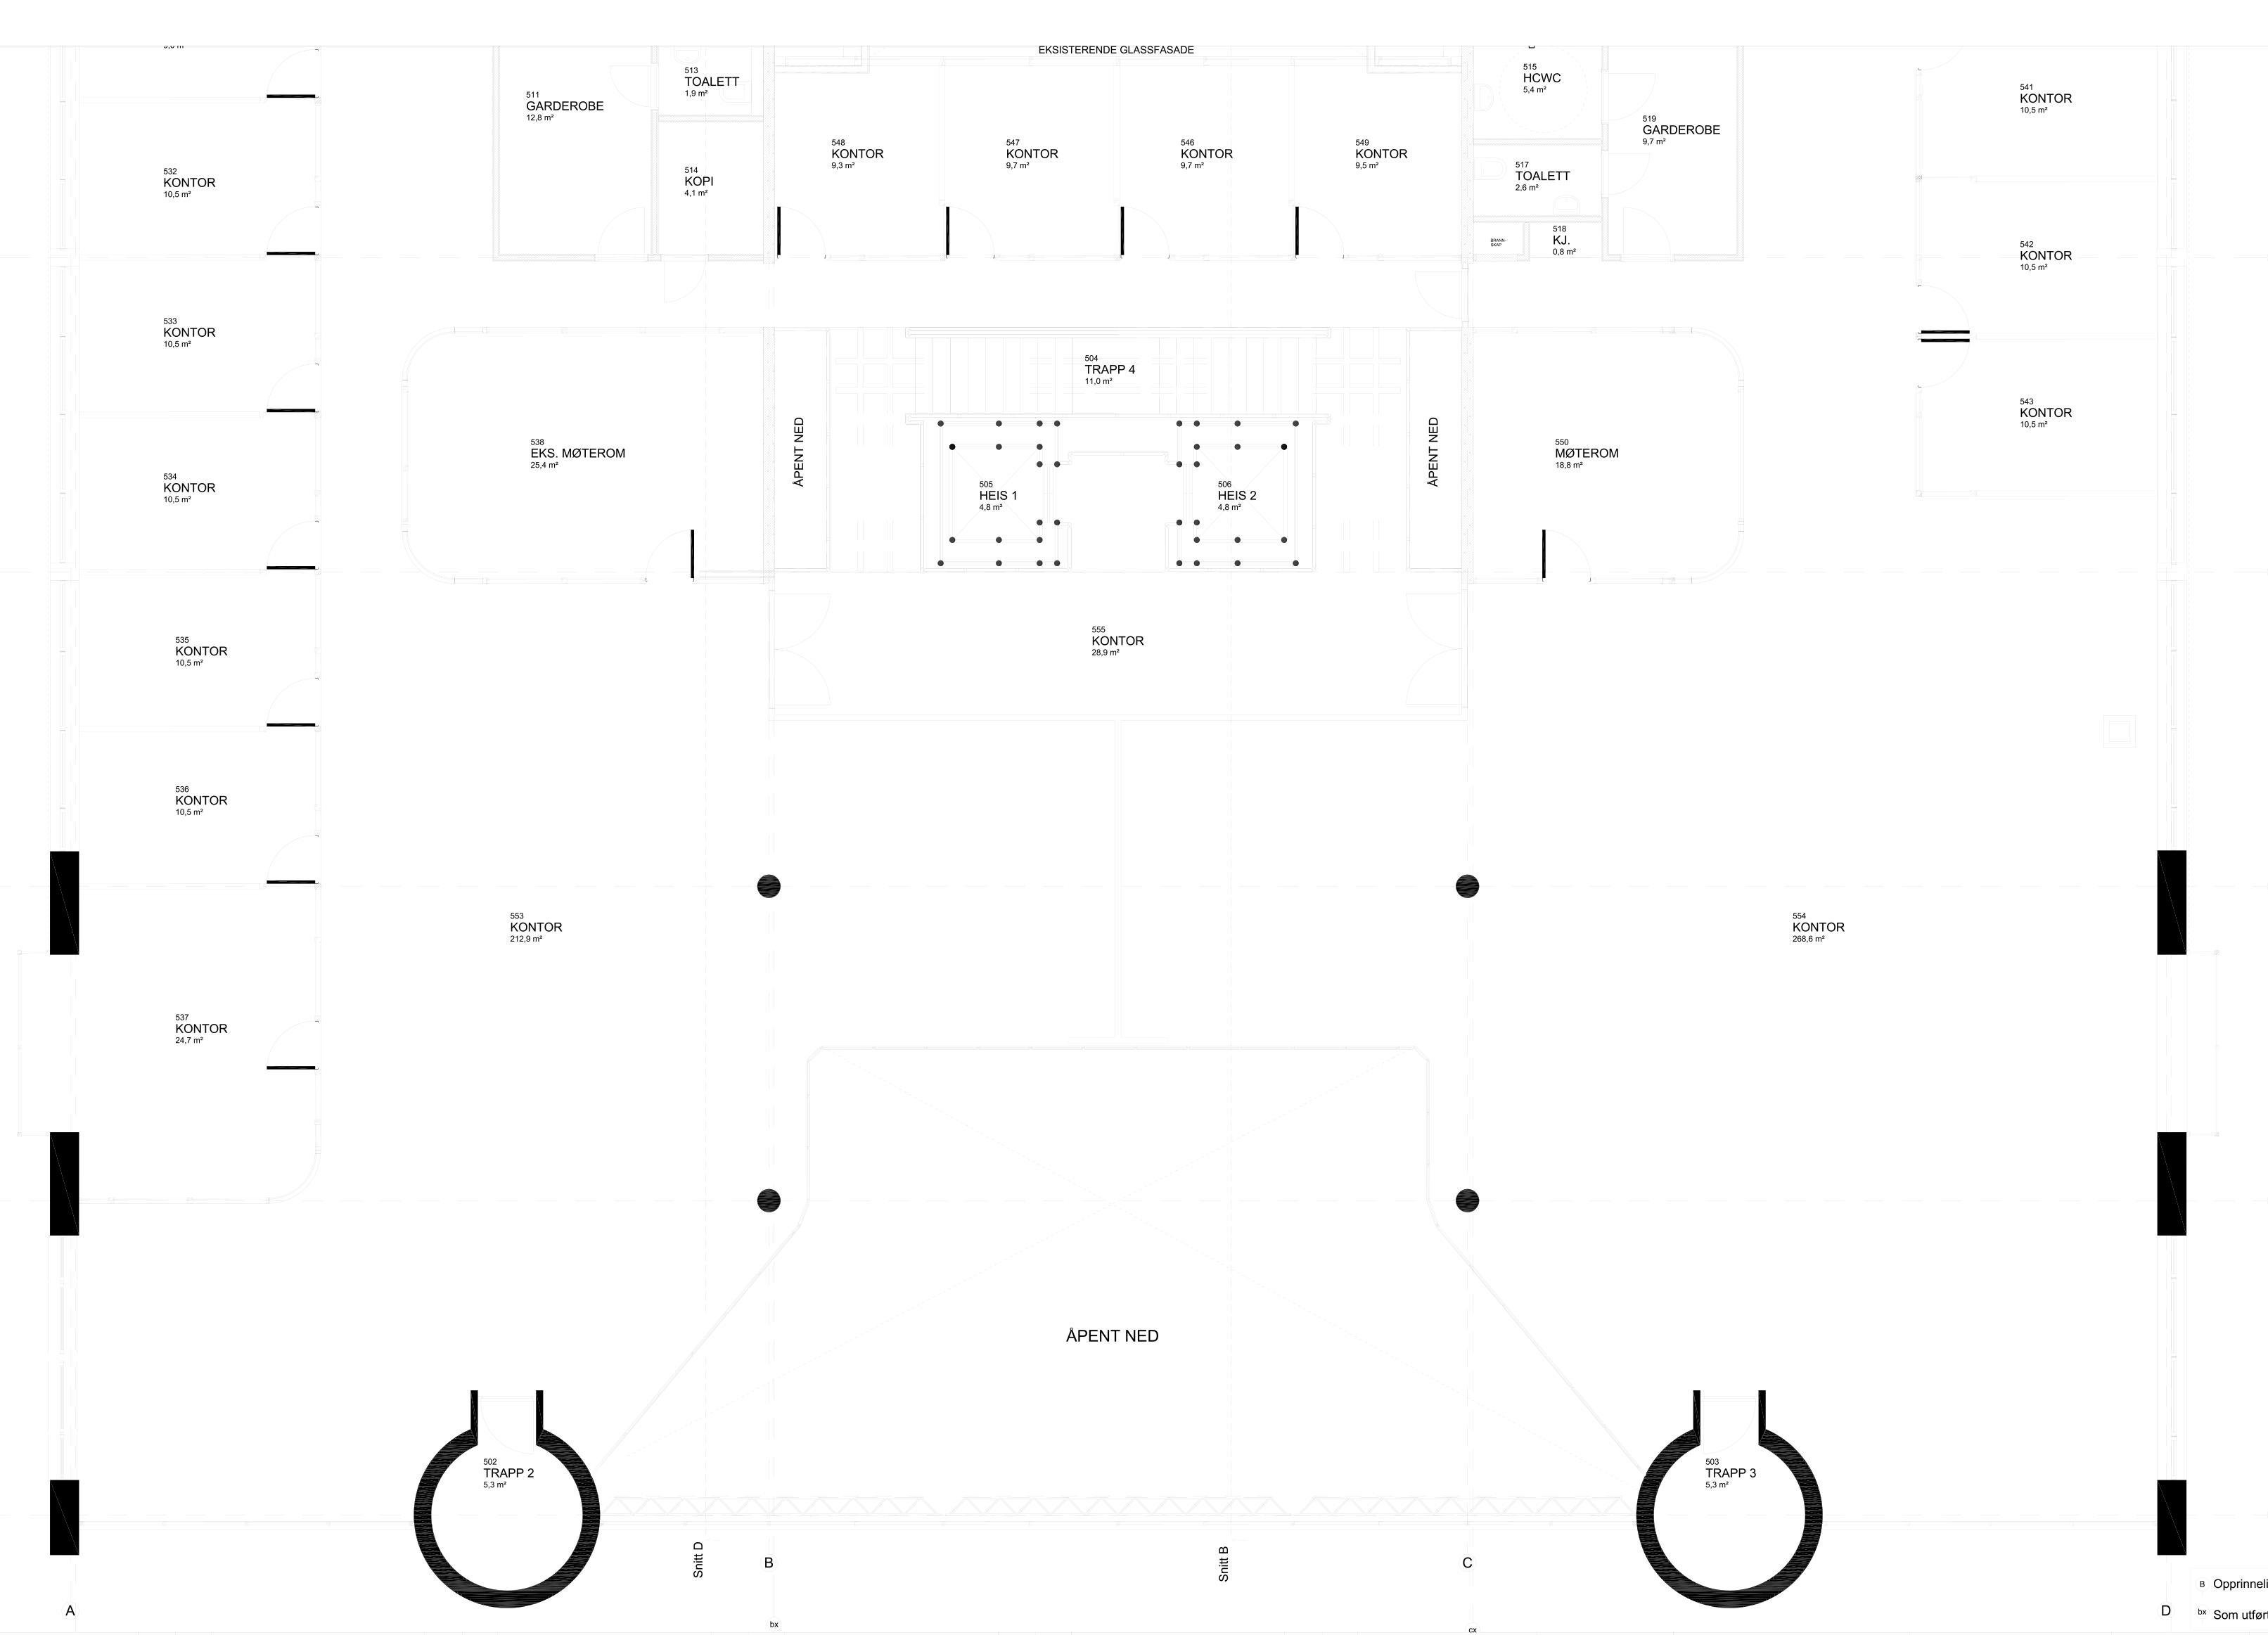room: (771, 572, 1467, 713), (405, 329, 766, 579), (65, 885, 319, 1202), (1467, 327, 1745, 581), (67, 727, 319, 883), (67, 99, 319, 255), (69, 414, 319, 570), (67, 257, 319, 412), (69, 572, 319, 727), (1918, 178, 2161, 336), (1918, 340, 2161, 495), (946, 62, 1120, 259), (769, 62, 944, 257), (1292, 63, 1467, 257), (1120, 63, 1292, 259), (497, 46, 653, 257), (1918, 46, 2159, 180), (1604, 46, 1740, 257), (652, 116, 766, 259), (768, 327, 826, 570), (1407, 329, 1463, 572), (1467, 48, 1604, 141), (1196, 447, 1298, 563), (951, 445, 1042, 565), (1467, 141, 1604, 218), (652, 46, 768, 120), (1467, 218, 1527, 259)
